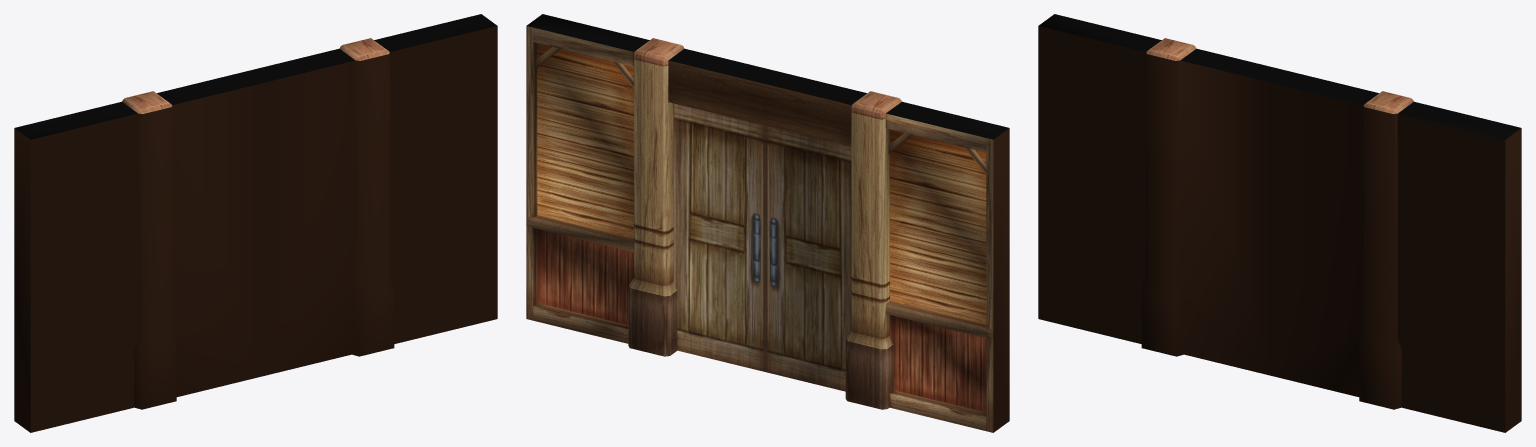
The model's file is a_SWGgate03B.glb.
The picture shows the model from 3 angles, left to right: view 1: azimuth 30°, elevation 25°; view 2: azimuth 150°, elevation 25°; view 3: azimuth 330°, elevation 25°; orthographic projection.
Visible parts, largest first — view 1: a_SWGgate03B; view 2: a_SWGgate03B; view 3: a_SWGgate03B.
Part boxes in pixels (left/top/right/bottom): a_SWGgate03B: left=14, top=14, right=497, bottom=432; a_SWGgate03B: left=526, top=14, right=1009, bottom=432; a_SWGgate03B: left=1038, top=14, right=1521, bottom=432.
Size of the model in its own units: 5 by 3.03 by 0.4479.
4 materials, 4 textured.
